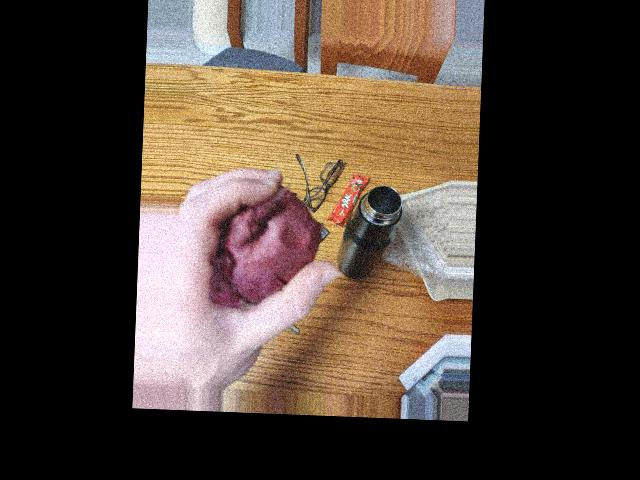onion: (215, 203, 301, 291)
